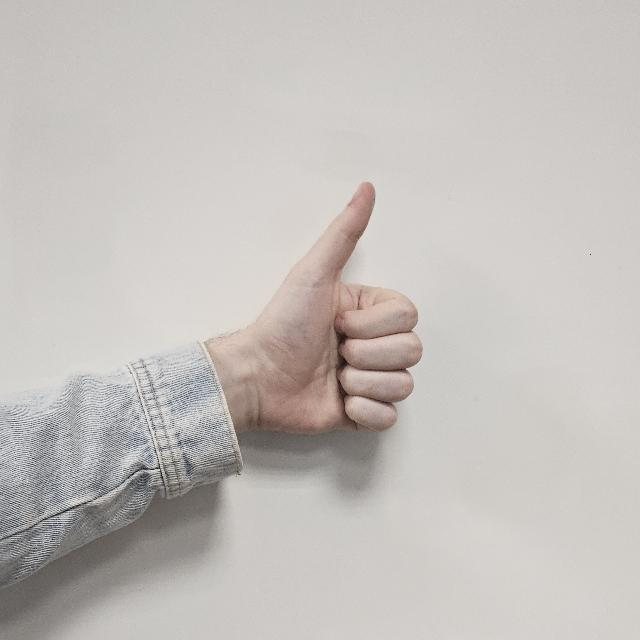Start: (231, 179, 423, 459)
